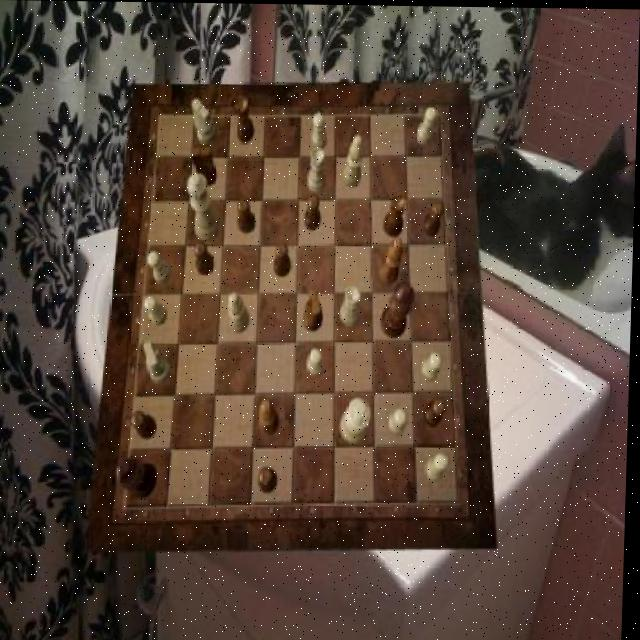bishop: (381, 237, 405, 285), (260, 399, 282, 435)
black-bishop: (119, 459, 161, 499)
black-king: (191, 147, 219, 186), (305, 288, 326, 331)
black-knight: (134, 411, 161, 439), (426, 199, 446, 235), (238, 197, 257, 233), (197, 241, 217, 275), (425, 397, 449, 425), (306, 193, 323, 229), (277, 242, 294, 276), (261, 466, 281, 492)
black-pawn: (382, 280, 416, 338)
black-queen: (384, 192, 407, 236), (235, 97, 256, 143)
black-rook: (344, 133, 364, 187), (229, 292, 253, 334)
white-bishop: (342, 396, 374, 442)
white-king: (192, 98, 219, 144), (145, 342, 173, 384)
white-knight: (149, 251, 174, 285), (417, 105, 438, 143), (144, 296, 169, 325), (429, 453, 453, 481), (312, 111, 329, 149), (424, 352, 444, 381), (390, 408, 410, 436), (309, 348, 327, 376)
white-pawn: (186, 173, 222, 241)
white-queen: (309, 147, 328, 193), (342, 286, 363, 326)
